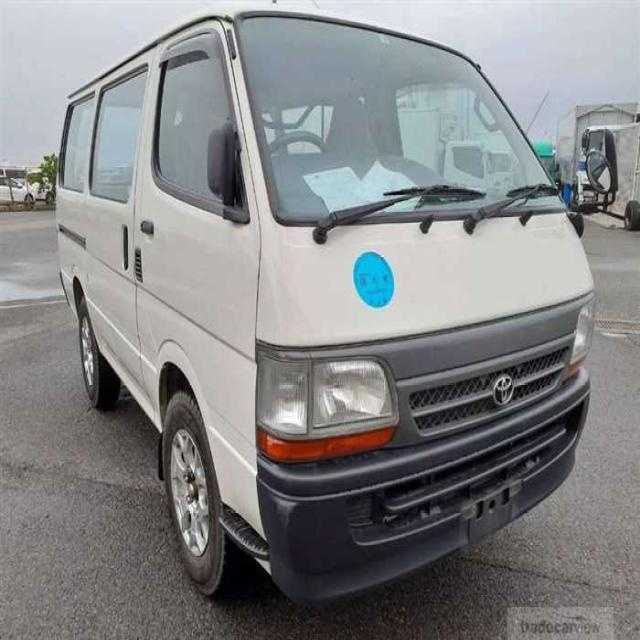Van: (53, 9, 591, 586)
